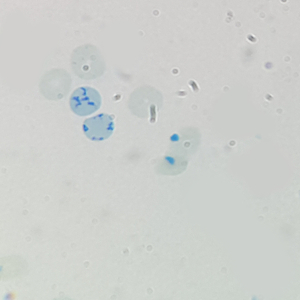aggregate reticulocyte: (68, 85, 103, 117), (81, 113, 116, 142)
erythrocyte: (126, 84, 163, 120), (39, 67, 73, 103), (168, 125, 204, 159), (152, 150, 191, 178)
punctate reticulocyte: (68, 42, 109, 81)
